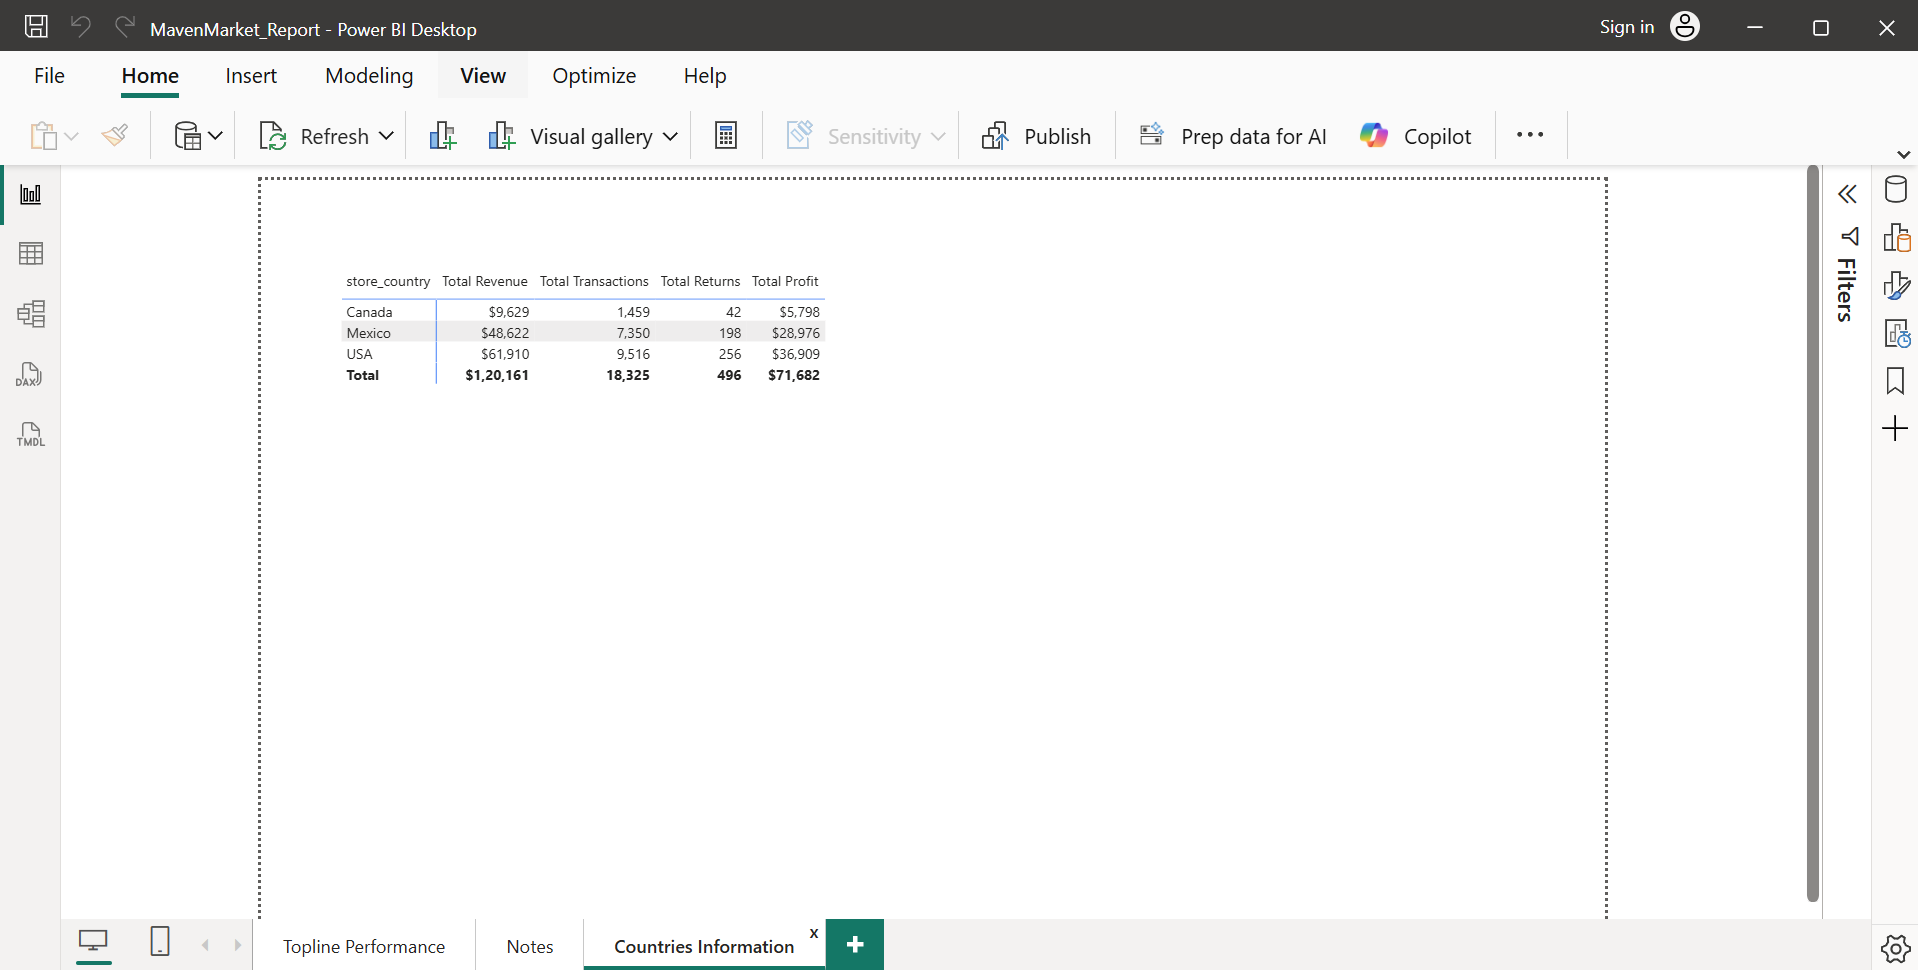

The page's visual inventory and layout, read from the dashboard file:
{"tool":"powerbi","page":{"name":"Countries Information","canvas":[1280,720],"ordinal":2},"visuals":[{"type":"pivotTable","fields":{"Rows":["Stores.store_country"],"Values":["Measure Table.Total Revenue","Measure Table.Total Transactions","Measure Table.Total Returns","Measure Table.Total Profit"]},"box":[70.7,79.7,517.6,204.2],"z":0}]}

Visuals, with their boxes on the page's 1280x720 design canvas (x1, y1, x2, y2). These are canvas units, not pixel positions in the 1918x970 screenshot, which may show the page scaled, cropped or inside an application window:
pivotTable - Stores.store_country x Measure Table.Total Revenue: [71, 80, 588, 284]
